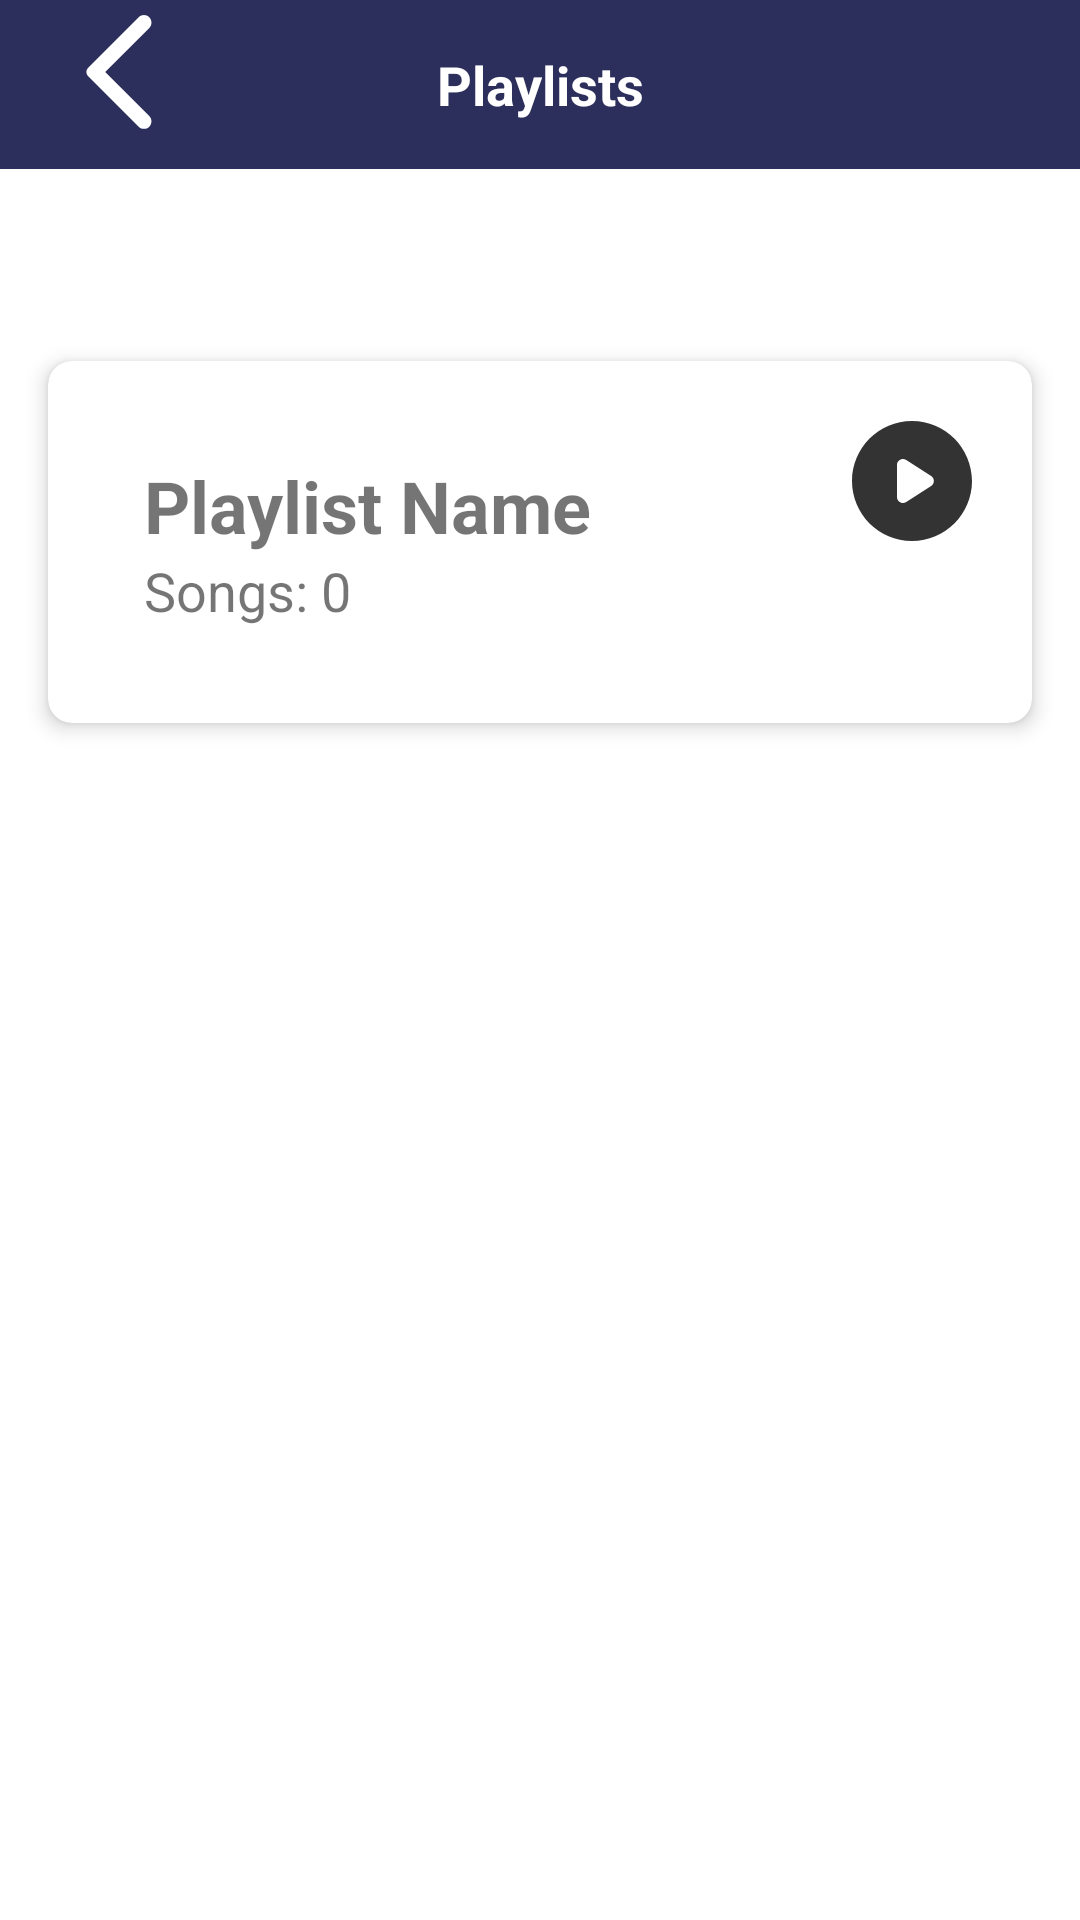

Where to tap for icons on this 1080 × 1920 app screen, as point (x, y):
Back: point (119, 72)
Play All: point (912, 481)
